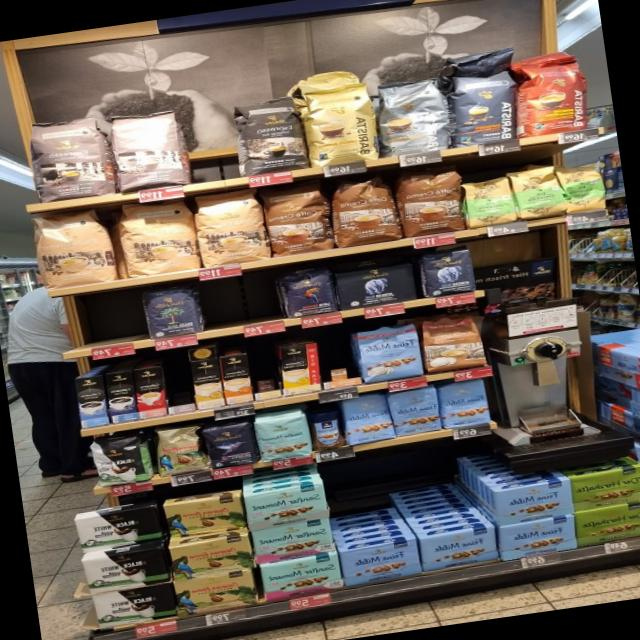AB Bohne: (418, 246, 478, 298)
AB Gemahlen: (334, 261, 418, 312)
Athiopien Bohne: (558, 163, 610, 216)
Athiopien Gemahlen: (462, 174, 519, 228), (513, 166, 562, 221)
BM Bohne: (144, 283, 203, 340)
BW Bohne: (88, 432, 152, 489)
BW Gemahlen: (82, 546, 167, 594), (90, 584, 178, 630), (74, 506, 158, 554)
Barista CB: (302, 81, 382, 169)
Barista CC: (374, 77, 456, 159)
Barista Espresso: (444, 70, 524, 150)
Barista Kolumbien: (514, 59, 594, 140)
C Fino Bohne: (202, 420, 258, 470)
CC Mild: (116, 196, 200, 280), (32, 206, 116, 289), (192, 188, 270, 270)
CC Vollmundig: (419, 314, 488, 374)
CC Vollmundig 36 Pads: (261, 178, 336, 258), (326, 172, 402, 250), (394, 164, 471, 238)
Colombia BB Bohne: (154, 424, 206, 477)
Colombia BB Gemahlen: (168, 535, 257, 581), (173, 570, 254, 618), (164, 495, 247, 537)
Empty Shelf: (58, 294, 150, 352), (198, 277, 282, 330), (317, 333, 358, 383), (249, 347, 284, 393), (163, 362, 196, 406)
Espresso Aromatisch: (105, 106, 194, 195), (24, 115, 111, 204)
Espresso S Art: (232, 94, 308, 178)
FM 36 Pads: (354, 322, 426, 386)
FM Bohne: (340, 393, 394, 447), (437, 377, 492, 429), (388, 386, 444, 436)
FM Gemahlen: (496, 514, 580, 562), (339, 538, 423, 586), (491, 479, 574, 526), (420, 526, 498, 572)
FM Instant: (306, 407, 346, 452)
Herzhatfe Mundig: (569, 465, 640, 513), (574, 501, 640, 546)
LG Bohne: (278, 264, 338, 320)
SM Bohne: (252, 409, 312, 464)
SM Gemahlen: (243, 480, 330, 530), (260, 552, 342, 602), (250, 518, 336, 564)
Simo CCMild: (278, 343, 324, 396)
Simo CCVollmundig bigpack: (220, 352, 254, 406)
Simo Decaff: (190, 356, 224, 409)
Simo Es Brazil: (133, 366, 170, 420)
Simo Es Kraft: (105, 371, 139, 424)
Simo Es Vanilla: (76, 376, 108, 428)
